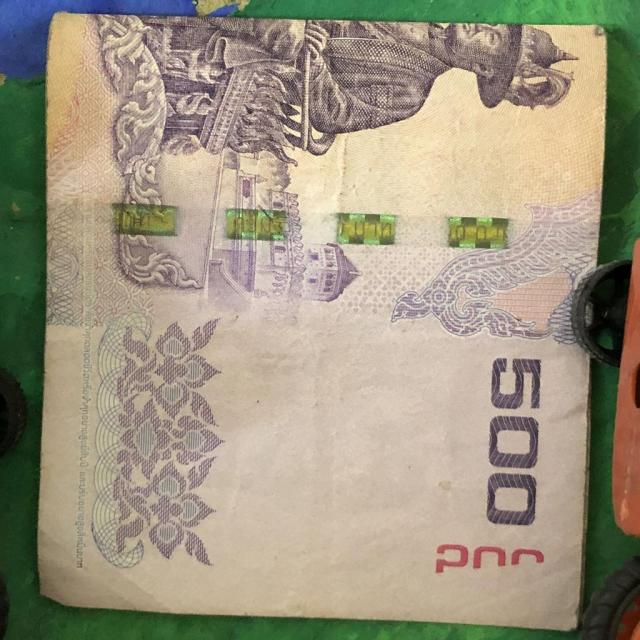THAI500: (35, 13, 608, 636)
